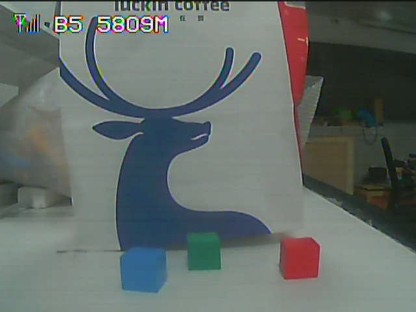b: (120, 252, 165, 291)
g: (187, 234, 219, 268)
r: (281, 238, 317, 276)
